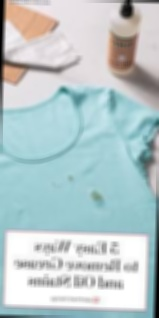oil: (90, 182, 110, 203), (46, 179, 61, 198), (67, 171, 77, 183)
